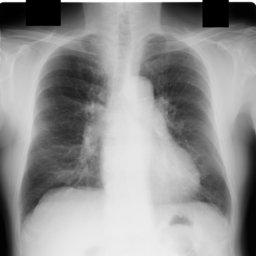left lobe: (140, 35, 230, 214)
right lobe: (23, 35, 109, 216)
